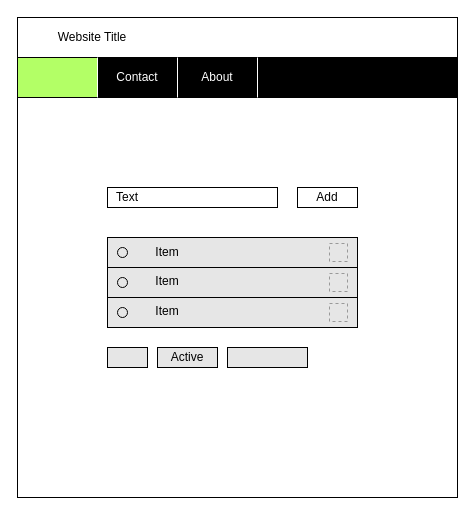
The diagram is 475 pixels wide and 515 high, and some of its shapes have lost their labels. Grey dashed boxes stand in for pictures. The box of each missing label's shape, as (x1, y1, x2, y2) in pixels:
All: (106, 346, 148, 368)
Complete: (226, 346, 308, 368)
To-Do List: (16, 56, 98, 98)
